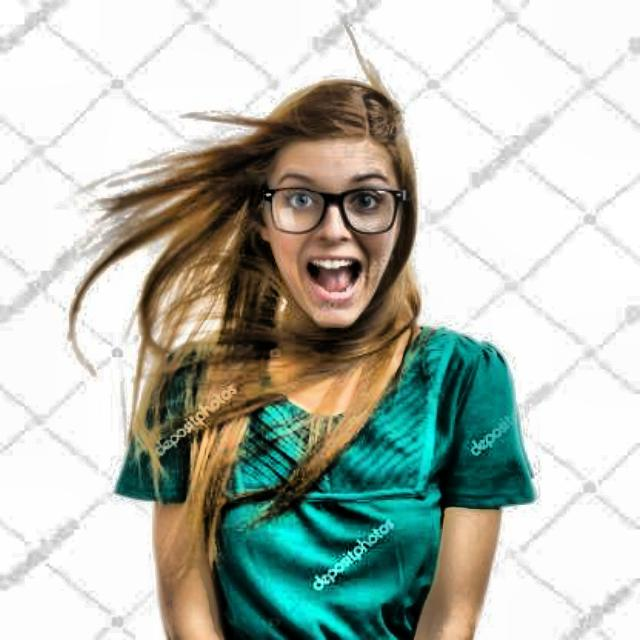surprised: (217, 90, 447, 354)
